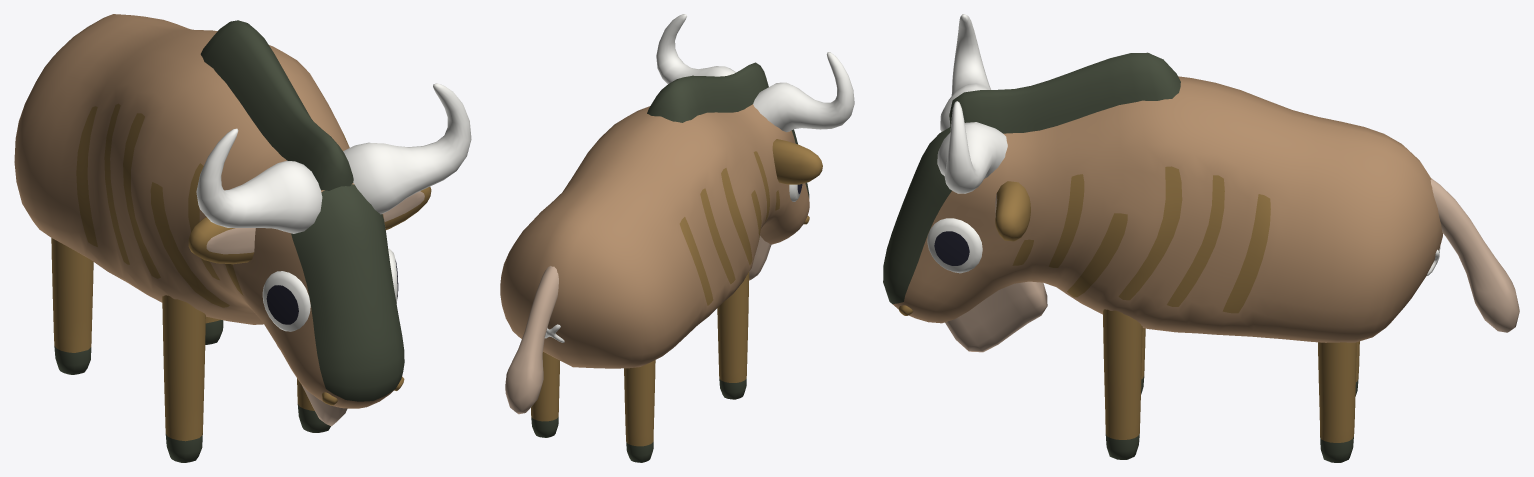
Rendered from Wildebeest.glb.
The picture shows the model from 3 angles, left to right: view 1: azimuth 30°, elevation 25°; view 2: azimuth 150°, elevation 25°; view 3: azimuth 270°, elevation 25°; orthographic projection. The views are drawn at different scales.
Parts seen in each view (by area): view 1: Wildebeest; view 2: Wildebeest; view 3: Wildebeest.
Boxes of the visible parts, bbox=[...] form: Wildebeest: bbox=[14, 14, 471, 462]; Wildebeest: bbox=[500, 14, 854, 462]; Wildebeest: bbox=[883, 14, 1519, 462].
Bounding box in the file's own units: 1.52 × 2.27 × 3.47.
Materials: 1 (1 with a texture image).
